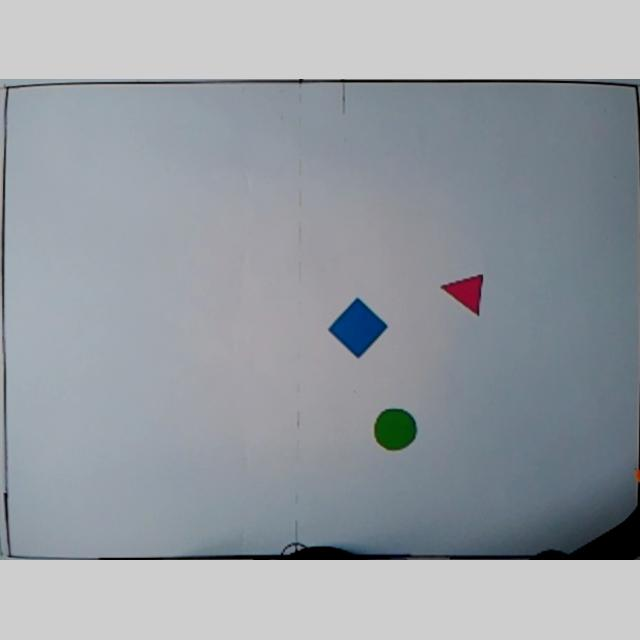blueSquare: (328, 297, 390, 361)
greenCircle: (372, 408, 418, 454)
pinkTriangle: (440, 274, 486, 320)
